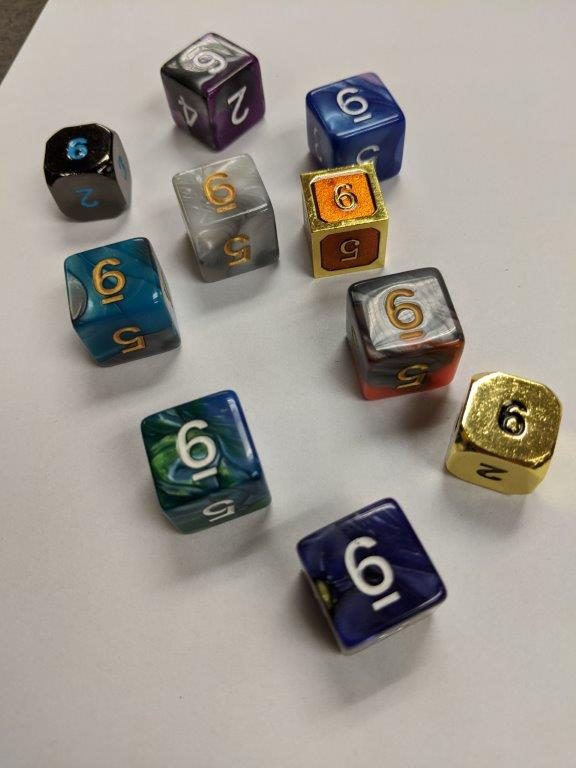d6-6: (297, 495, 447, 653), (137, 386, 274, 534), (57, 236, 183, 370), (347, 268, 463, 399), (444, 374, 563, 498), (173, 152, 281, 284), (158, 31, 265, 153), (308, 73, 406, 188), (299, 158, 389, 276), (40, 120, 133, 222)
